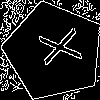X: (29, 26, 82, 70)
